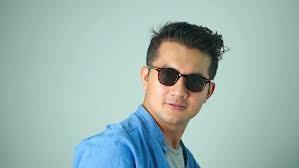sunglasses: (154, 63, 211, 99)
